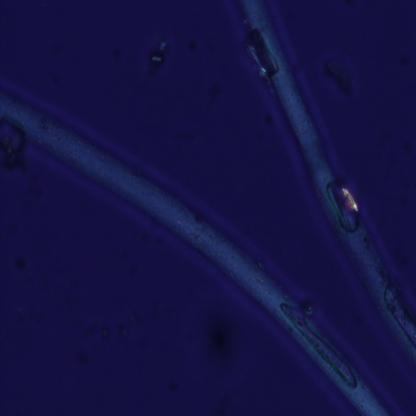Microfibre: (0, 82, 388, 414), (238, 0, 416, 361)
